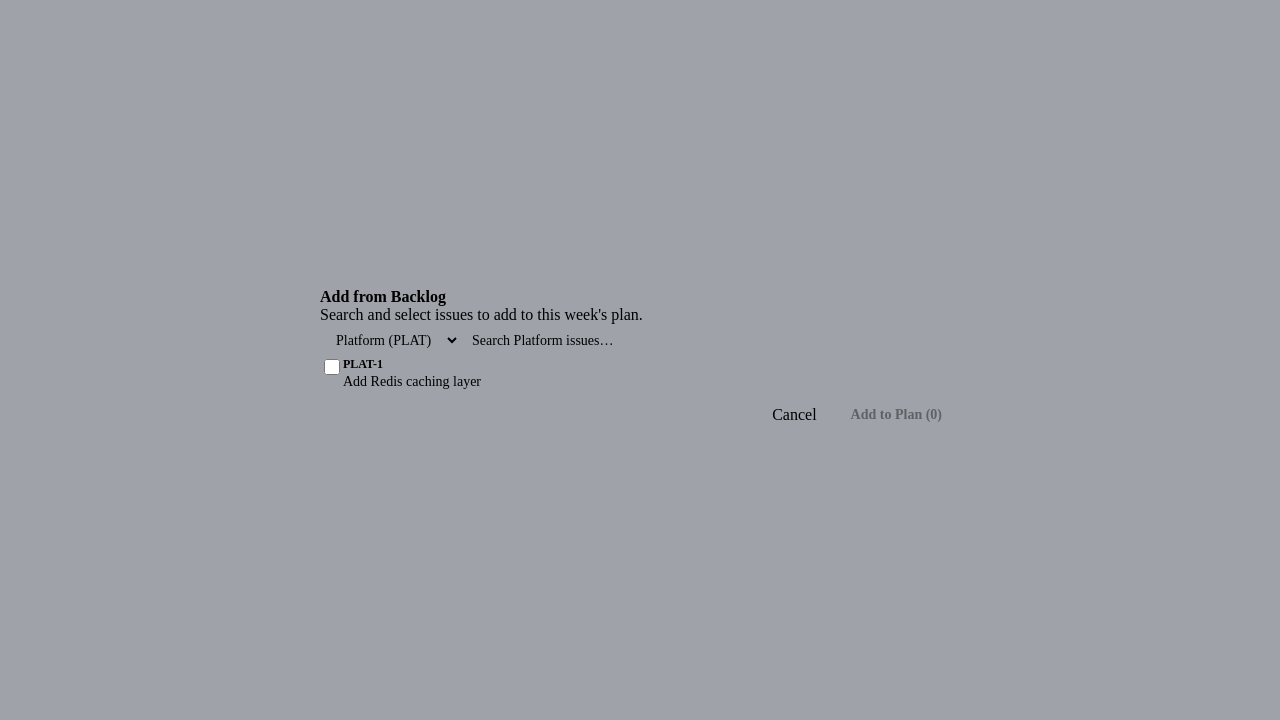
Test: BacklogPickerDialog › selecting an issue enables the confirm button
Expected: the button with test id "backlog-picker-confirm" is disabled, [833,398,960,432]
Click the checkbox labelled "PLAT-1 Add Redis caching layer" at {"x": 332, "y": 367}, box [324,359,340,375]
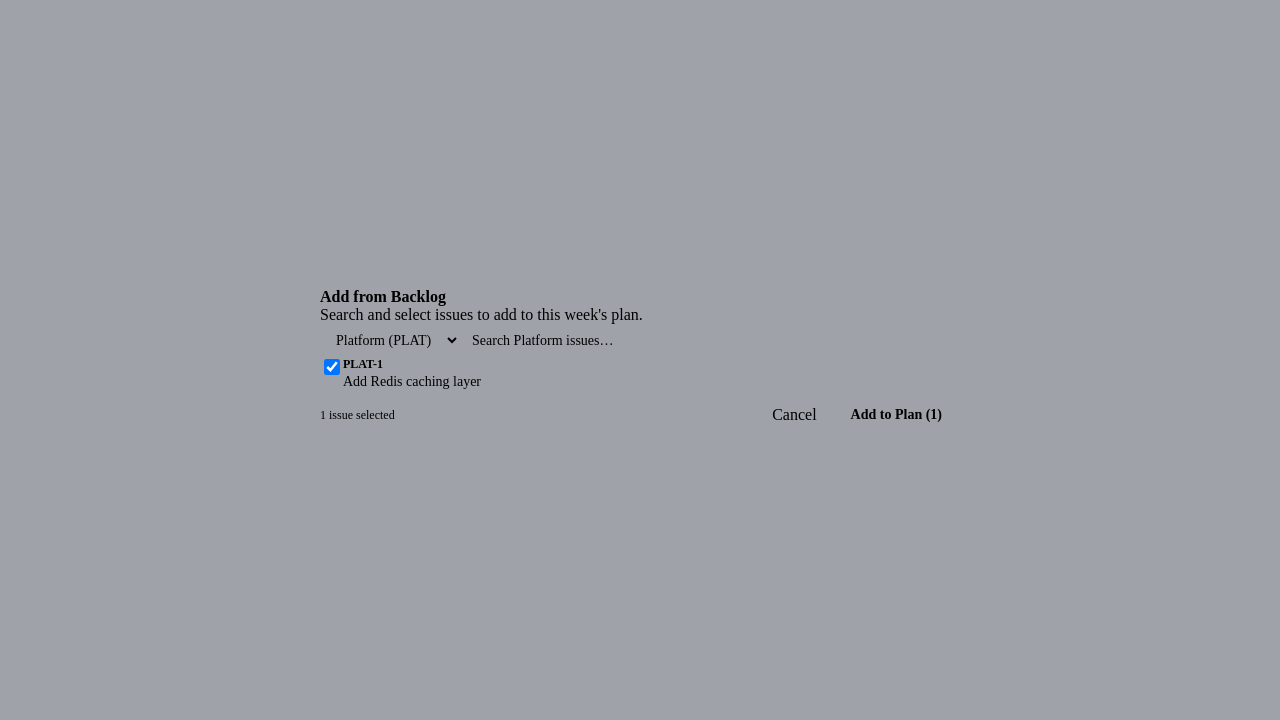
Now the button with test id "backlog-picker-confirm" is enabled, box [833,398,960,432]
Now the button with test id "backlog-picker-confirm" reads "Add to Plan (1)", box [833,398,960,432]
